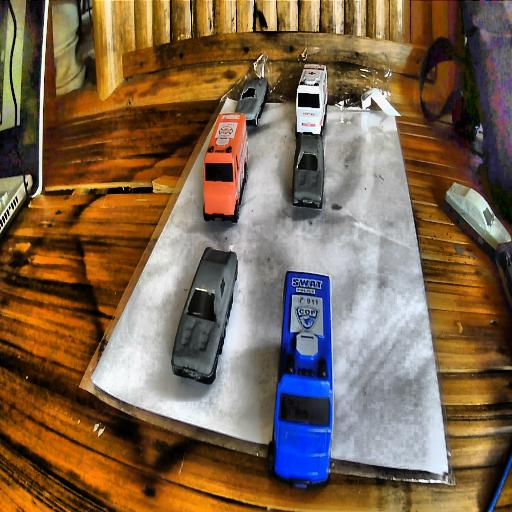ambulance: (295, 63, 329, 138)
fire_truck: (202, 111, 248, 225)
normal_car: (443, 183, 512, 328), (171, 245, 239, 384), (292, 130, 325, 210), (236, 77, 268, 129)
police car: (267, 272, 332, 490)
